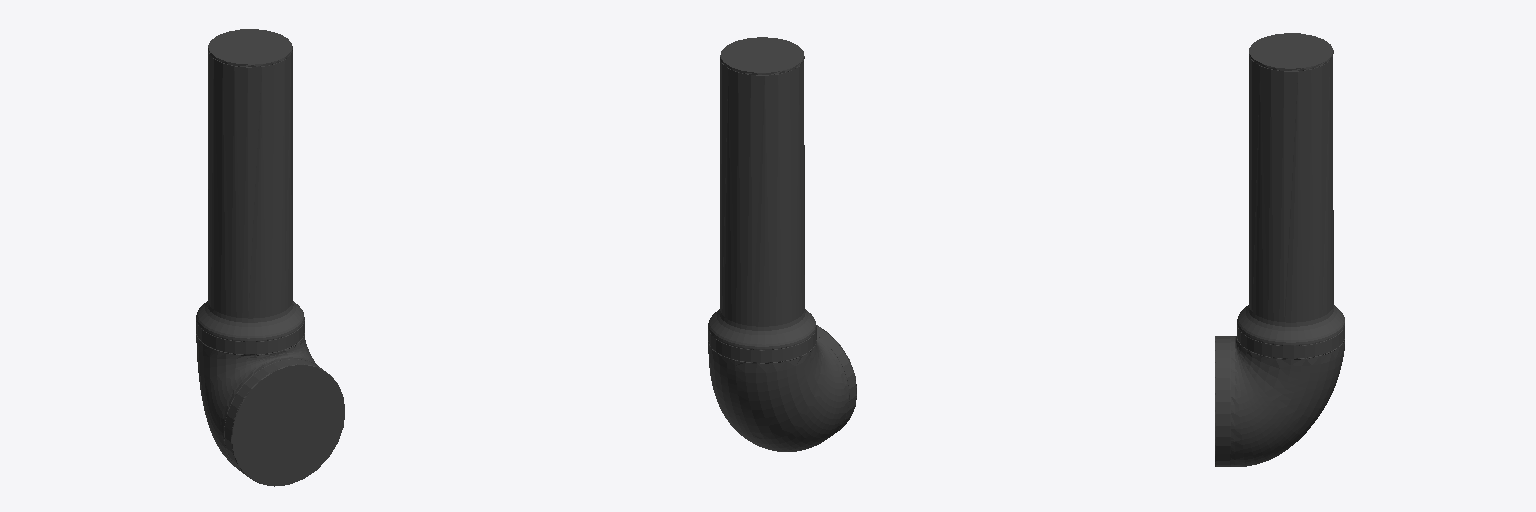
The model's file is armL link3.004.obj.
3 views of the same model, side by side, from view 1: azimuth 30°, elevation 25°; view 2: azimuth 150°, elevation 25°; view 3: azimuth 270°, elevation 25° (orthographic).
Parts seen in each view (by area): view 1: visual_0_armR_link3_armL_link3.004; view 2: visual_0_armR_link3_armL_link3.004; view 3: visual_0_armR_link3_armL_link3.004.
Boxes of the visible parts, x1=… form: visual_0_armR_link3_armL_link3.004: x1=196, y1=29, x2=344, y2=486; visual_0_armR_link3_armL_link3.004: x1=708, y1=37, x2=856, y2=451; visual_0_armR_link3_armL_link3.004: x1=1215, y1=33, x2=1344, y2=466.
Size of the model in its own units: 0.058 by 0.2002 by 0.0579.